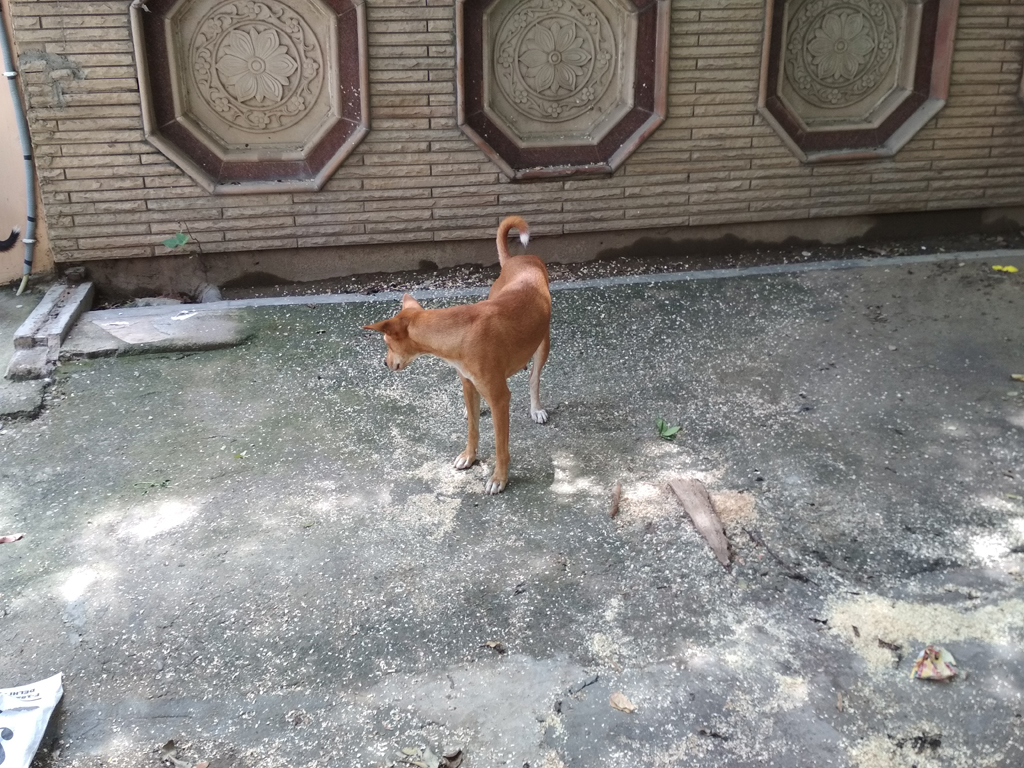dog: (362, 215, 554, 493)
